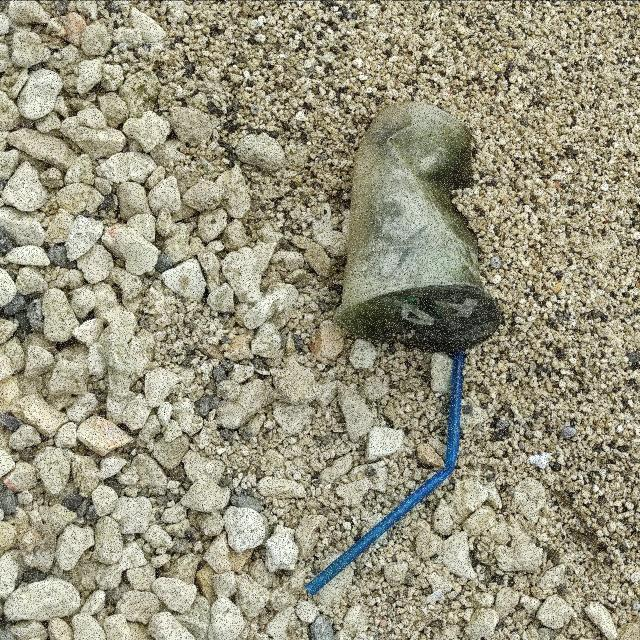plastic_waste: (331, 100, 503, 355), (305, 350, 467, 598)
